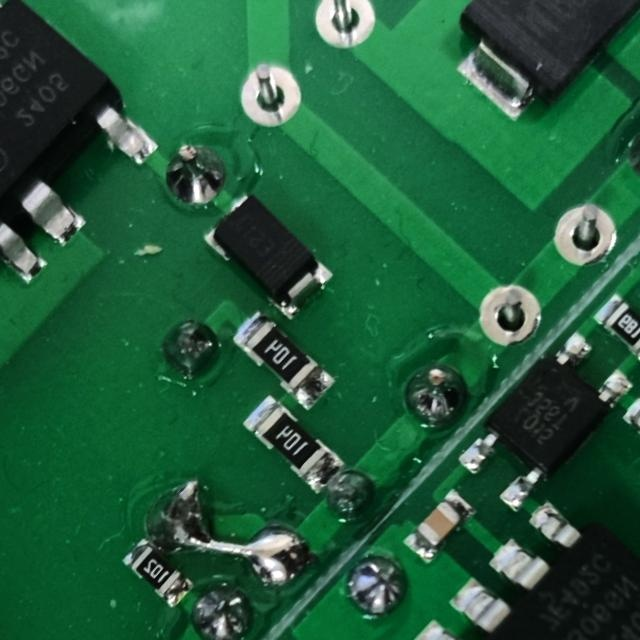chip-capacitor: (399, 482, 482, 567)
chip-resistor: (238, 389, 348, 495), (229, 307, 339, 413), (118, 534, 197, 610), (588, 289, 640, 370)
diode: (426, 0, 640, 137), (197, 187, 339, 325)
ic: (0, 0, 175, 299), (449, 321, 639, 518)
